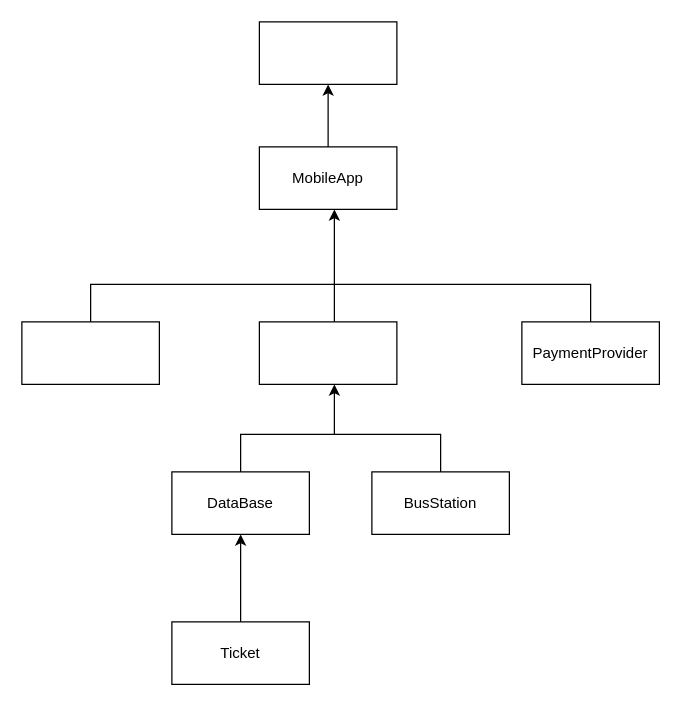
This 681x706 diagram has some shape labels left out. Here are the shapes that lost their labels. From the top down, the centre of each, then its label:
At [327,52]: "Customer".
At [90,352]: "CustomerProvider".
At [327,352]: "TicketProvider".
